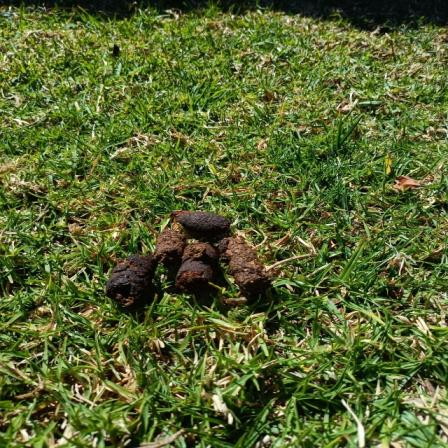dog-poop: (103, 206, 274, 312)
